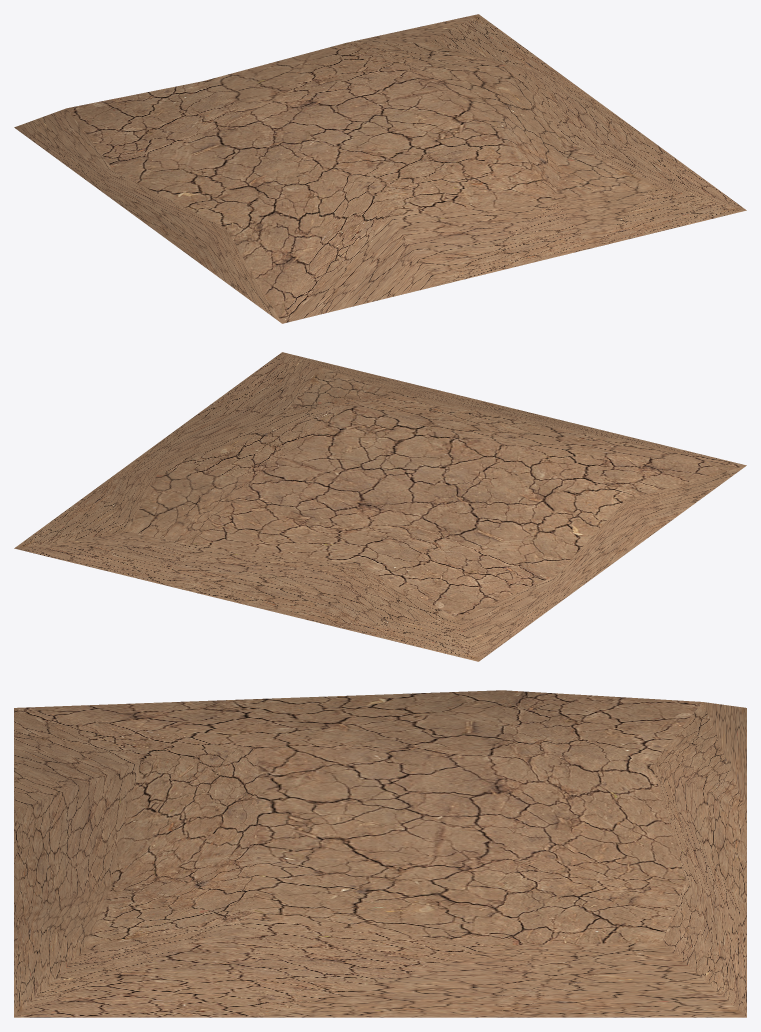
Rendered from tower_soil.FBX.
The picture shows the model from 3 angles, top to bottom: view 1: azimuth 30°, elevation 25°; view 2: azimuth 150°, elevation 25°; view 3: azimuth 270°, elevation 25°; orthographic projection. The views are drawn at different scales.
Visible parts, largest first — view 1: tower_soil; view 2: tower_soil; view 3: tower_soil.
Boxes of the visible parts, x1,y1,x2,y2 form: tower_soil: [14, 14, 746, 323]; tower_soil: [14, 352, 746, 661]; tower_soil: [14, 690, 746, 1017].
Size of the model in its own units: 20 by 2 by 20.
1 material, 1 textured.
